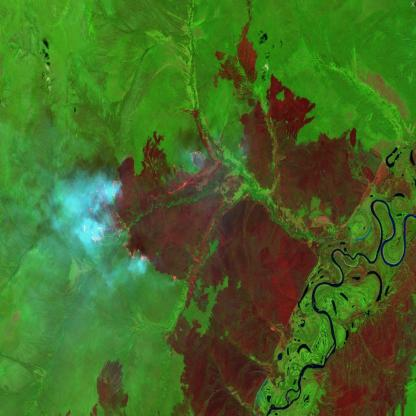fire: (80, 147, 206, 289)
